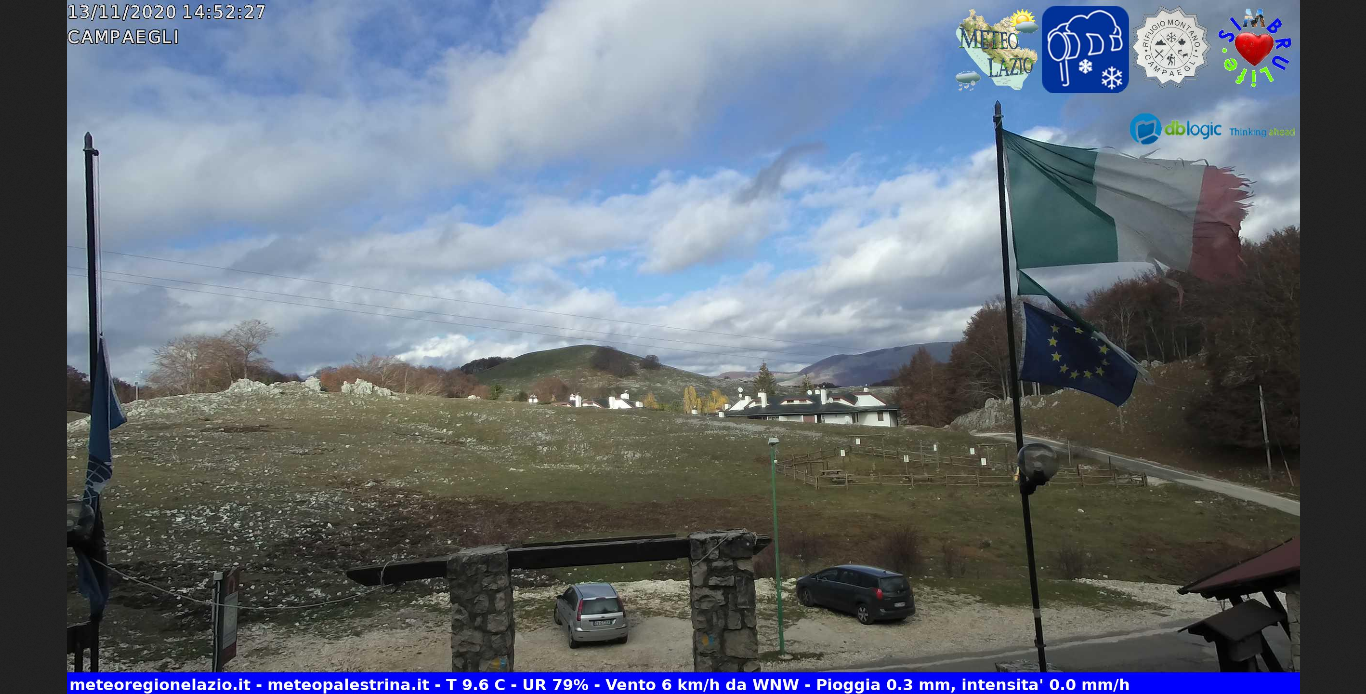yes: (985, 110, 1262, 288), (999, 295, 1155, 418)
